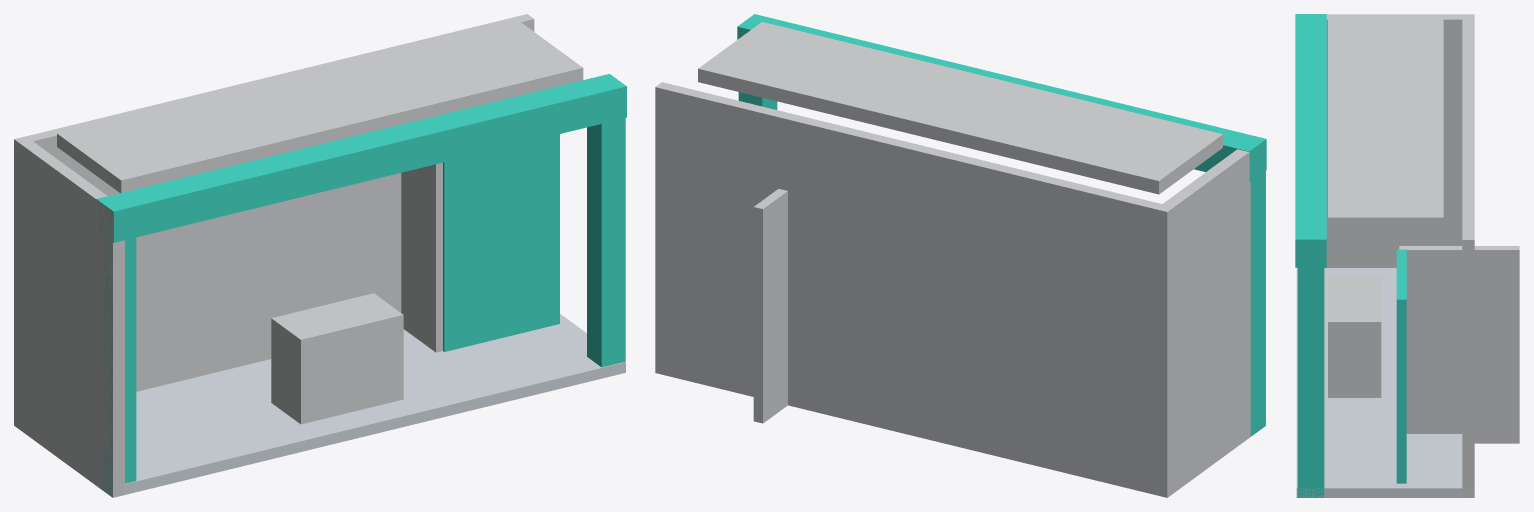
The picture shows the model from 3 angles, left to right: view 1: azimuth 30°, elevation 25°; view 2: azimuth 150°, elevation 25°; view 3: azimuth 270°, elevation 25°; orthographic projection. The views are drawn at different scales.
Parts seen in each view (by area): view 1: Exhibition Booth Concept; view 2: Exhibition Booth Concept; view 3: Exhibition Booth Concept.
Boxes of the visible parts, left/top/right/bottom form: Exhibition Booth Concept: left=14, top=14, right=626, bottom=497; Exhibition Booth Concept: left=655, top=14, right=1266, bottom=497; Exhibition Booth Concept: left=1295, top=14, right=1519, bottom=497.
Size of the model in its own units: 6 by 3.34 by 2.52.
